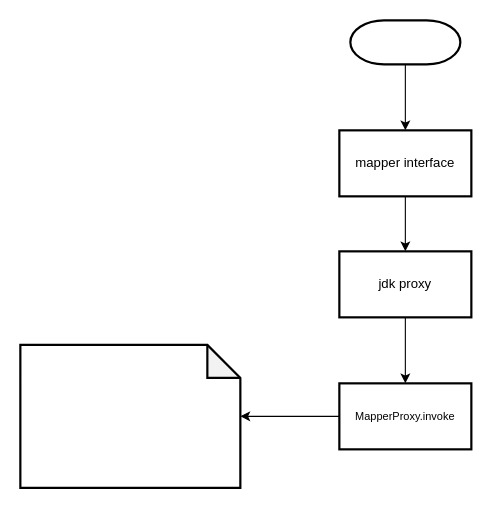
Some shapes in this 491 by 507 pixel diagram are drawn without their labels. The shapes that lost their labels are listed below. From the top down, each one's centre as x and y in pixels, then its label:
At point 405,42: "开始".
At point 130,415: "( Object proxy , Method method , Object[] args )".
